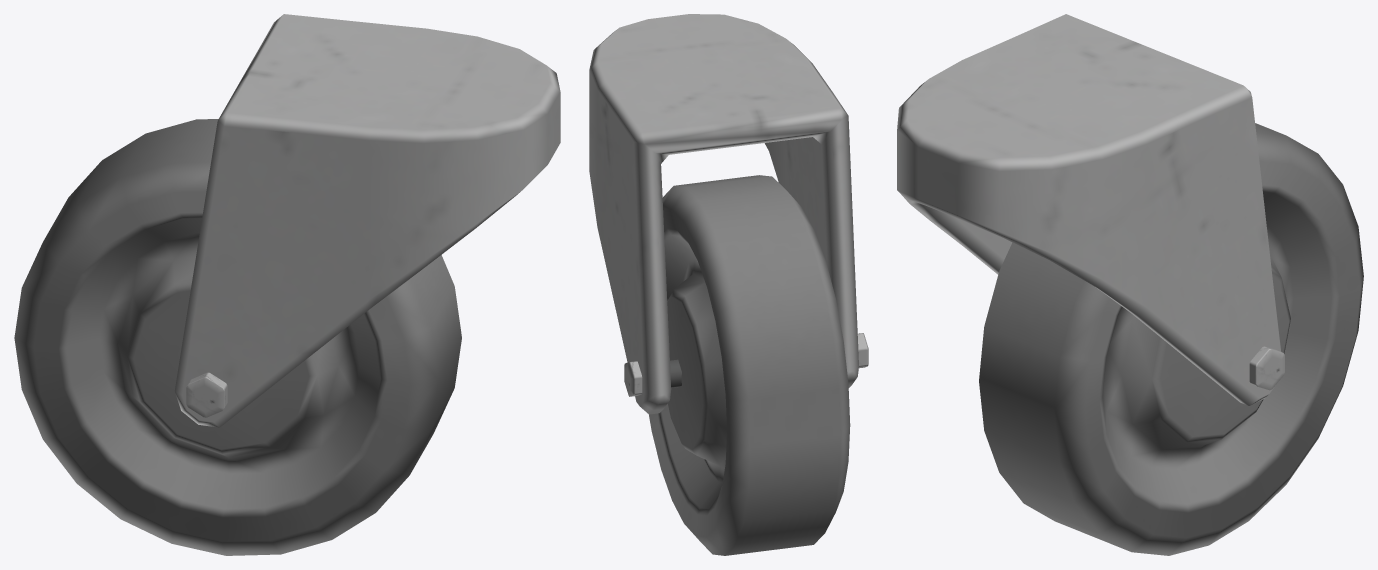
File: SM_Cartwheel_01a.fbx
The picture shows the model from 3 angles, left to right: view 1: azimuth 30°, elevation 25°; view 2: azimuth 150°, elevation 25°; view 3: azimuth 270°, elevation 25°; orthographic projection. The views are drawn at different scales.
Visible parts, largest first — view 1: SM_Cartwheel_01a_LOD0; view 2: SM_Cartwheel_01a_LOD0; view 3: SM_Cartwheel_01a_LOD0.
Boxes of the visible parts, x1,y1,x2,y2 form: SM_Cartwheel_01a_LOD0: (14, 14, 560, 555); SM_Cartwheel_01a_LOD0: (589, 14, 868, 555); SM_Cartwheel_01a_LOD0: (897, 14, 1363, 555).
Bounding box in the file's own units: 9.93 × 9.72 × 11.14.
